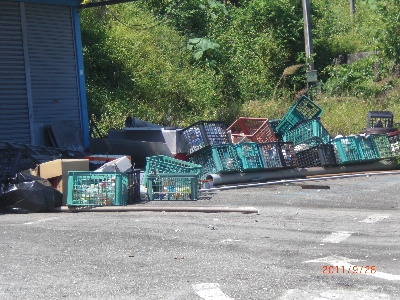plastic_bag: (1, 170, 63, 214)
